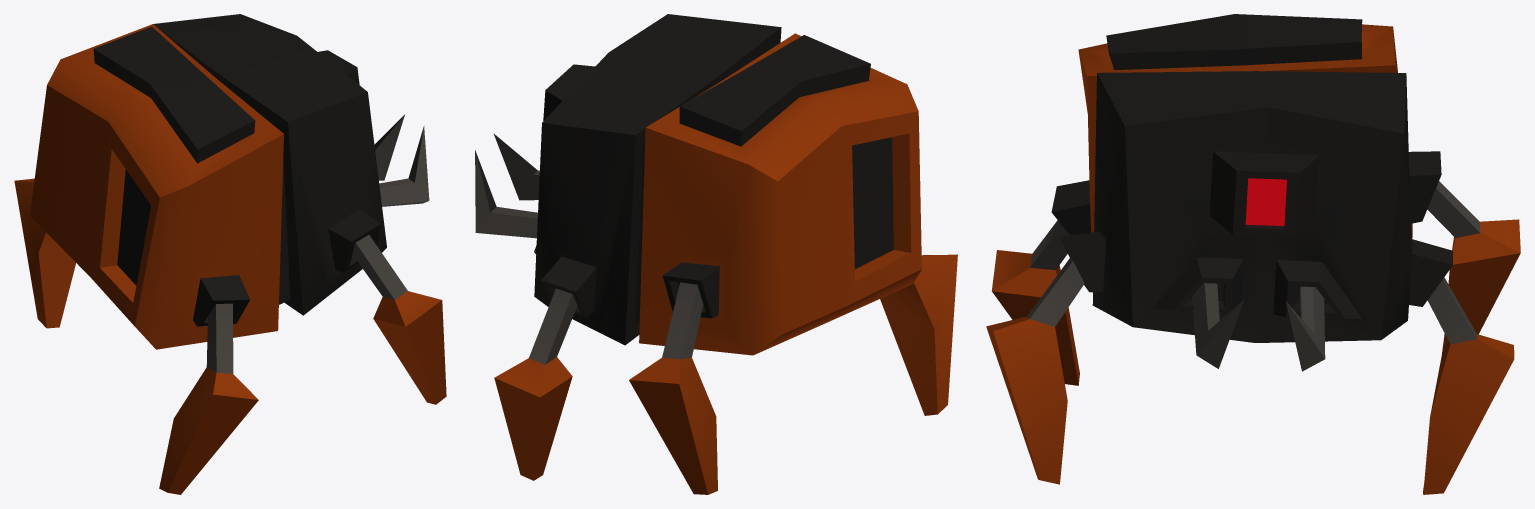
Rendered from SPIDBOT17.obj.
3 views of the same model, side by side, from view 1: azimuth 30°, elevation 25°; view 2: azimuth 150°, elevation 25°; view 3: azimuth 270°, elevation 25° (orthographic). The views are drawn at different scales.
Visible parts, largest first — view 1: Cube.001; view 2: Cube.001; view 3: Cube.001.
Boxes of the visible parts, <box> form: Cube.001: <box>14,14,446,494</box>; Cube.001: <box>475,14,957,494</box>; Cube.001: <box>986,14,1520,494</box>.
Size of what is drawn, in the model's own units: 2.92 by 2.86 by 3.45.
